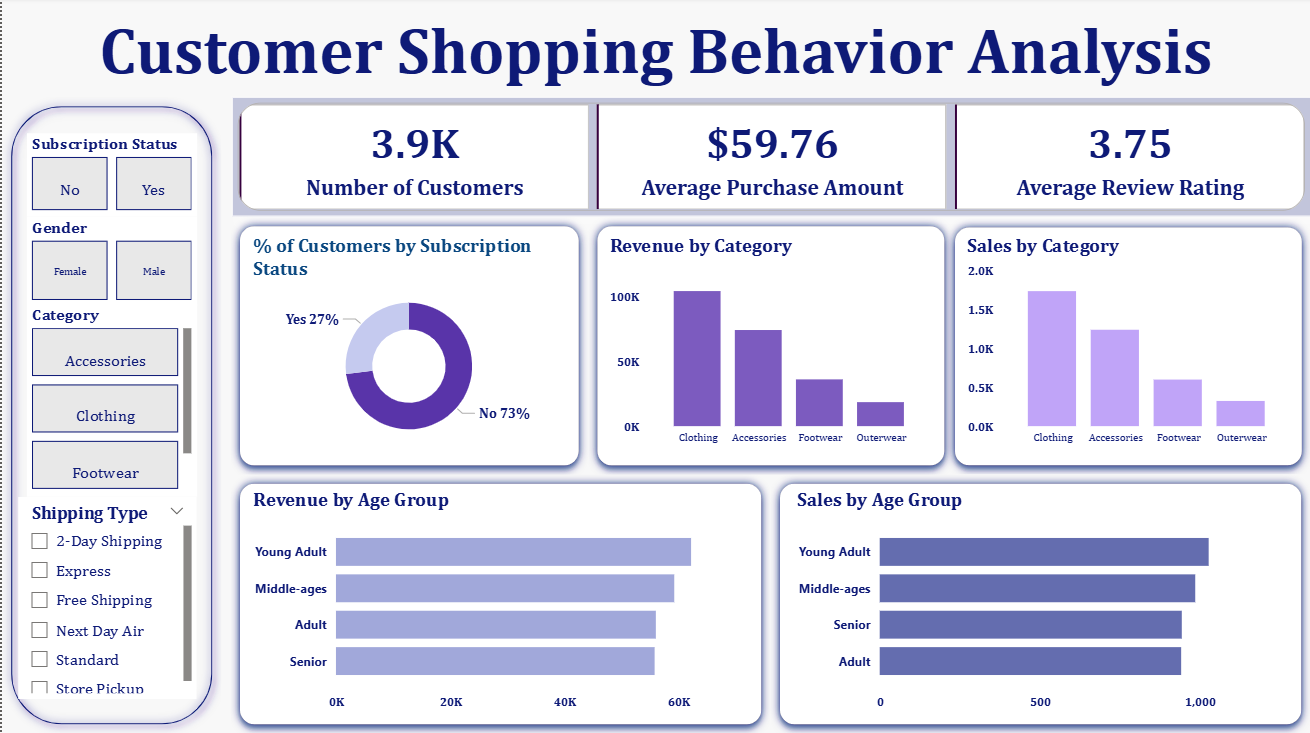

What the dashboard file says about the page in this screenshot:
{"tool":"powerbi","page":{"name":"Page 1","canvas":[1280,720],"ordinal":0},"visuals":[{"type":"cardVisual","fields":{"Data":["public customer.Number of Customers","public customer.Average Purchase Amount","public customer.Average Review Rating"]},"box":[224.4,97.6,1056.1,117.1],"z":0},{"type":"shape","box":[0,0,1279.5,97.4],"z":1000},{"type":"shape","box":[224,214.7,349.3,252],"z":2000},{"type":"donutChart","title":"% of Customers by Subscription Status","fields":{"Y":["public customer.Number of Customers"],"Category":["public customer.subscription_status"]},"box":[241.3,232,314.7,214.7],"z":3000},{"type":"shape","box":[573.3,214.7,357.3,252],"z":4000},{"type":"shape","box":[922.7,216,357.3,250.7],"z":5000},{"type":"clusteredColumnChart","title":"Revenue by Category","fields":{"Y":["Sum(public customer.purchase_amount)"],"Category":["public customer.category"]},"box":[589.3,232,324,214.7],"z":6000},{"type":"clusteredColumnChart","title":"Sales by Category","fields":{"Y":["CountNonNull(public customer.customer_id)"],"Category":["public customer.category"]},"box":[938.7,232,328,214.7],"z":7000},{"type":"shape","box":[0,97.3,214.7,622.7],"z":8000},{"type":"advancedSlicerVisual","title":"Subscription Status","fields":{"Values":["public customer.subscription_status"]},"box":[24,133.3,166.7,81.3],"z":9000},{"type":"advancedSlicerVisual","title":"Gender","fields":{"Values":["public customer.gender"]},"box":[24,214.7,166.7,86.7],"z":10000},{"type":"advancedSlicerVisual","title":"Category","fields":{"Values":["public customer.category"]},"box":[24,301.3,166.7,188],"z":11000},{"type":"slicer","fields":{"Values":["public customer.shipping_type"]},"box":[16,489.3,174.7,197.3],"z":12000},{"type":"shape","box":[224,466.7,528,253.3],"z":13000},{"type":"clusteredBarChart","title":"Revenue by Age Group","fields":{"Category":["public customer.age_group"],"Y":["Sum(public customer.purchase_amount)"]},"box":[241.3,480,493.3,225.3],"z":14000},{"type":"shape","box":[752,466.7,528,253.3],"z":15000},{"type":"clusteredBarChart","title":"Sales by Age Group","fields":{"Category":["public customer.age_group"],"Y":["CountNonNull(public customer.customer_id)"]},"box":[773.3,480,482.7,225.3],"z":16000}]}

Visuals, with their boxes in screenshot pixels (x1, y1, x2, y2), scaled from the page's 1280x720 canvas onto the 1310x733 screenshot:
cardVisual - public customer.Number of Customers x public customer.Average Purchase Amount: [230, 99, 1309, 219]
shape: [0, 0, 1309, 99]
shape: [229, 219, 587, 475]
"% of Customers by Subscription Status" donutChart: [247, 236, 569, 455]
shape: [587, 219, 952, 475]
shape: [944, 220, 1309, 475]
"Revenue by Category" clusteredColumnChart: [603, 236, 935, 455]
"Sales by Category" clusteredColumnChart: [961, 236, 1296, 455]
shape: [0, 99, 220, 732]
"Subscription Status" advancedSlicerVisual: [25, 136, 195, 218]
"Gender" advancedSlicerVisual: [25, 219, 195, 307]
"Category" advancedSlicerVisual: [25, 307, 195, 498]
slicer - public customer.shipping_type: [16, 498, 195, 699]
shape: [229, 475, 770, 732]
"Revenue by Age Group" clusteredBarChart: [247, 489, 752, 718]
shape: [770, 475, 1309, 732]
"Sales by Age Group" clusteredBarChart: [791, 489, 1285, 718]
